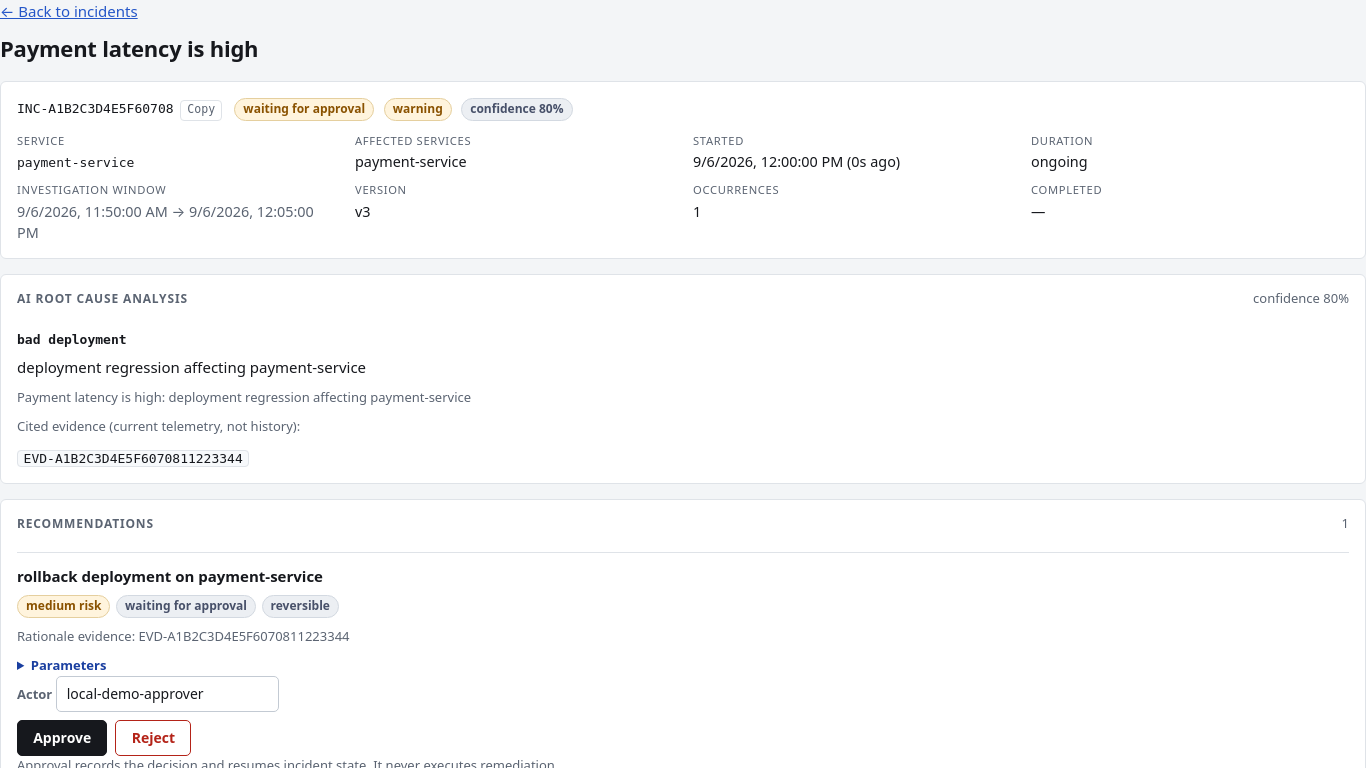
Scenario: IncidentDetailPage › surfaces a stale-update state when the version moved
Click the button "Approve": (62, 738) [17,720,108,756]
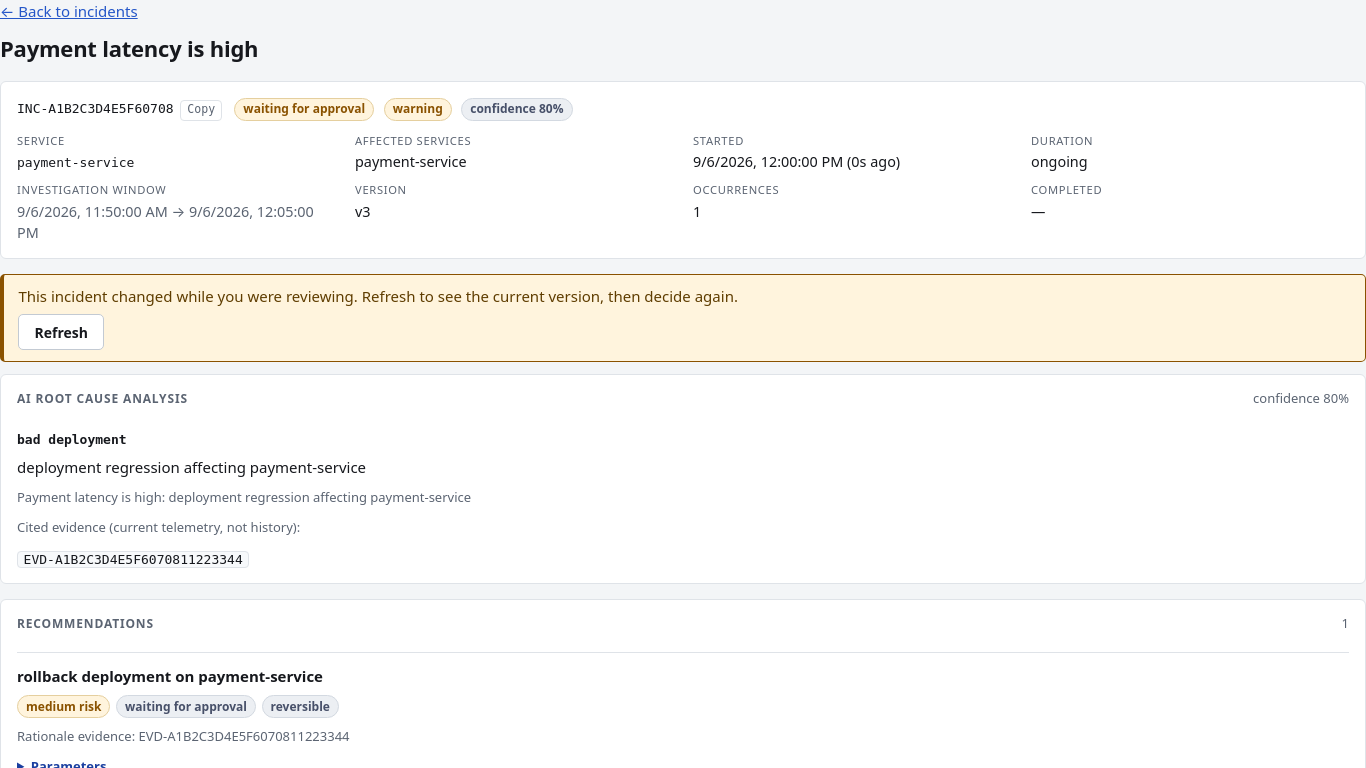
Check: the text "changed while you were reviewing" is shown, box [18,286,738,306]
